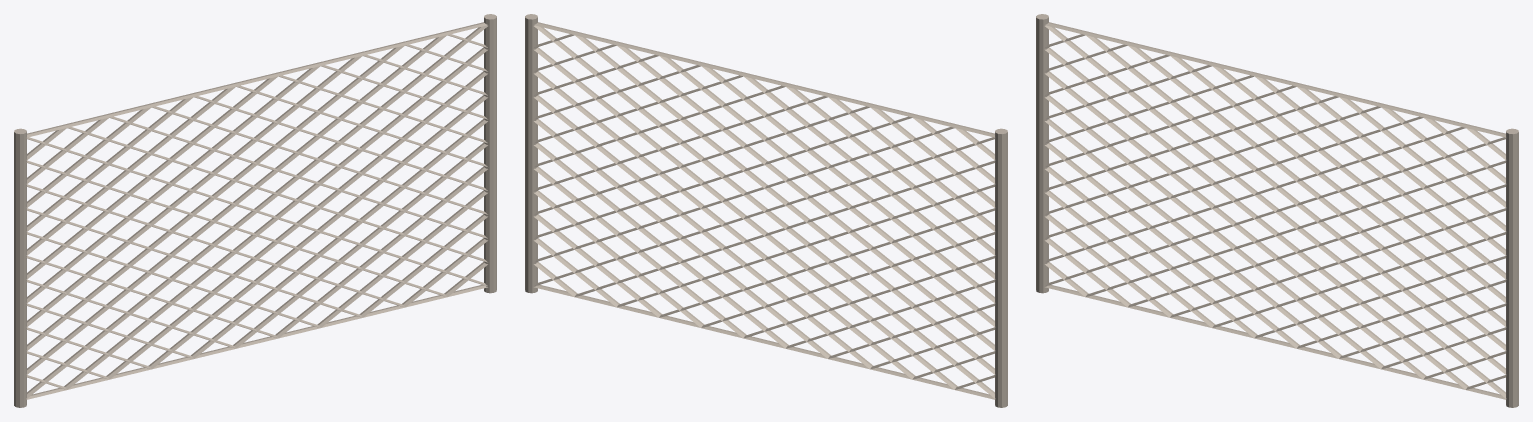
Rendered from fence.fbx.
3 renders of one model, left to right at view 1: azimuth 30°, elevation 25°; view 2: azimuth 150°, elevation 25°; view 3: azimuth 330°, elevation 25°, orthographic.
Parts seen in each view (by area): view 1: Plane.001; view 2: Plane.001; view 3: Plane.001.
Part boxes in pixels (box(x1,y1,x2,y2)): Plane.001: box(14, 14, 496, 407); Plane.001: box(525, 14, 1007, 407); Plane.001: box(1036, 14, 1518, 407).
Size of the model in its own units: 526 by 286 by 12.53.
